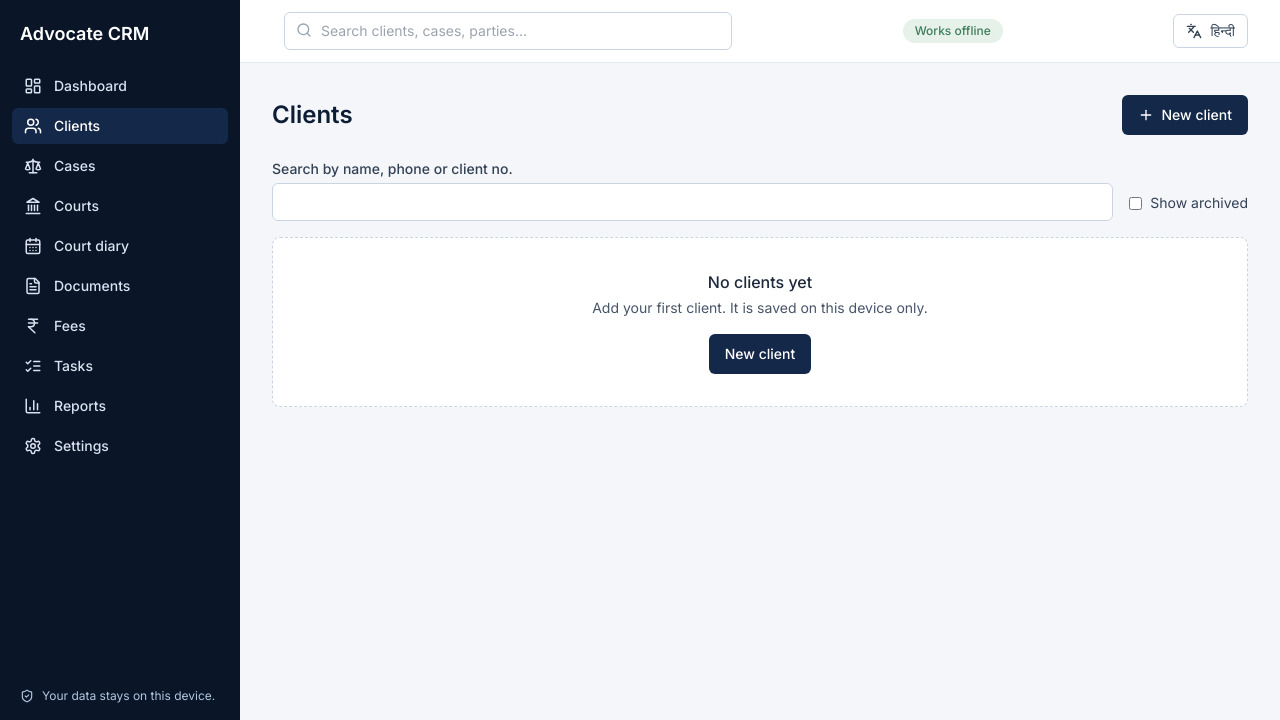
it: client management › shows validation errors and saves nothing for bad input
The width and height of the screenshot is (1280, 720).
Click the 1st button "New client" at (1185, 115), box [1122,95,1248,135]
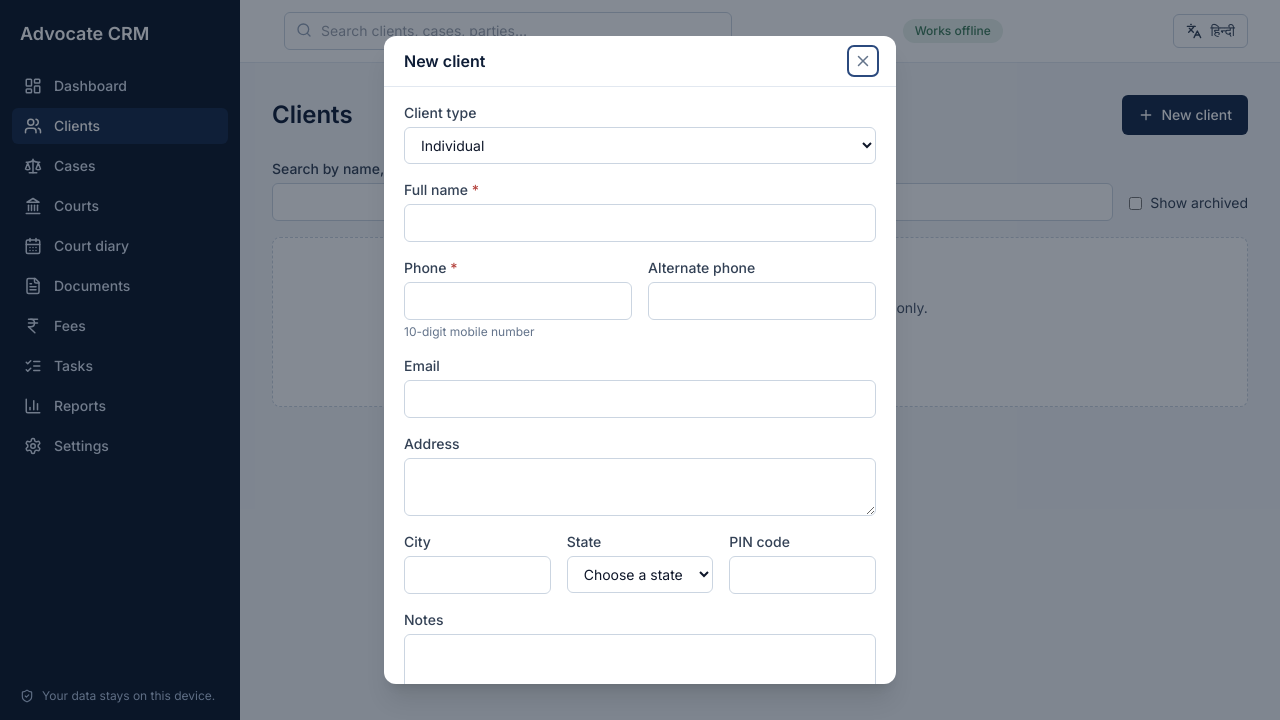
Type "A" into the field labelled "Full name *" at (640, 223), box [404,204,876,242]
(page scrolled)
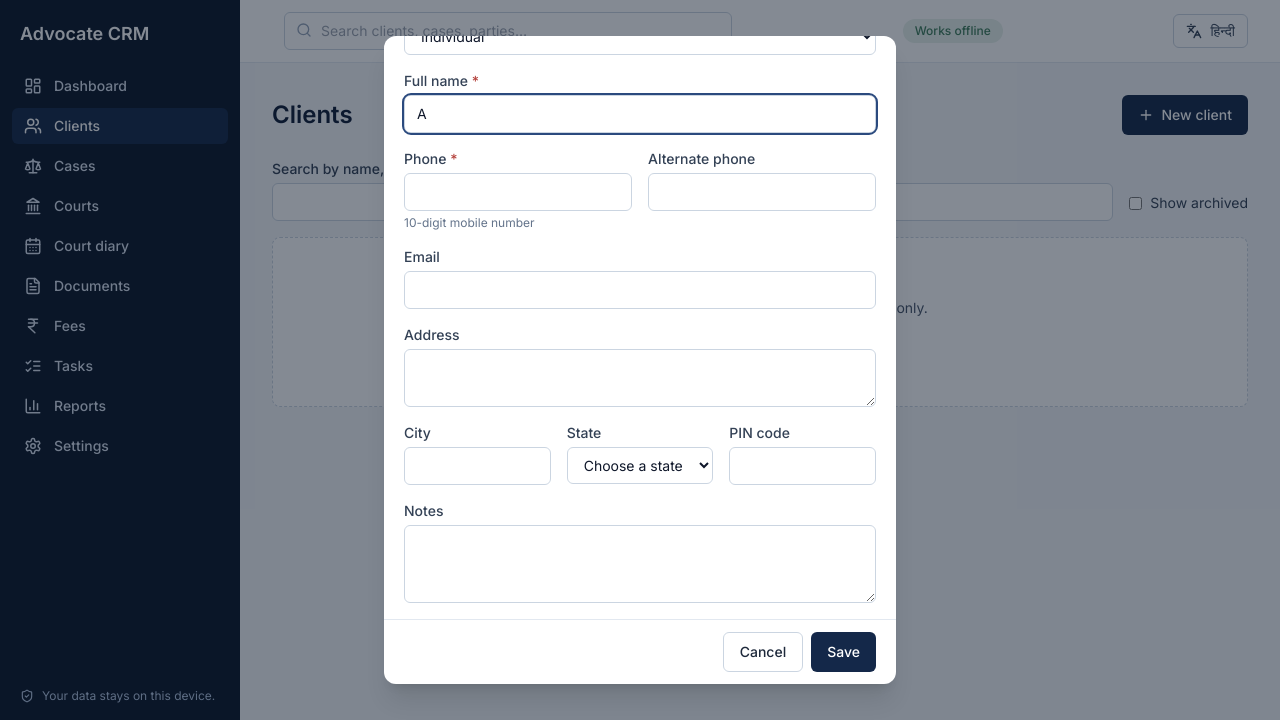
Click the button "Save" at (844, 652), box [811,632,876,672]
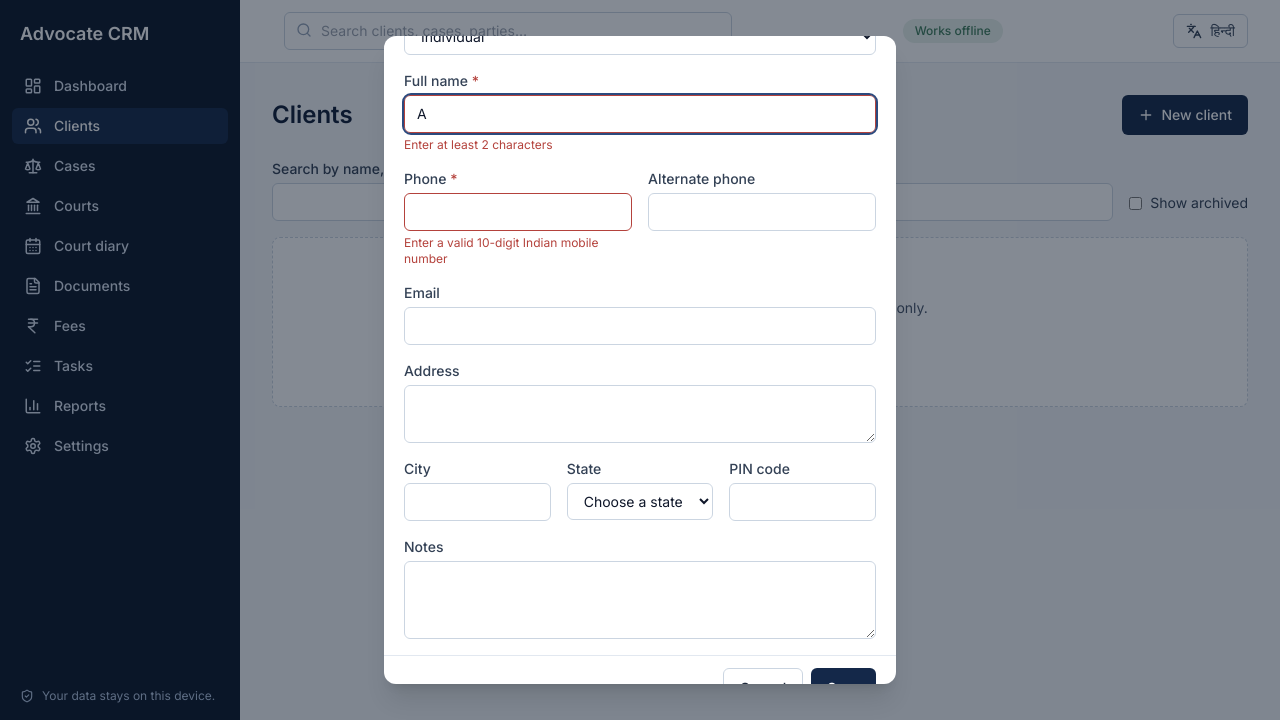
Now the text "Enter at least 2 characters" is shown, box [404,137,553,152]
Now the text "Enter a valid 10-digit Indian mobile number" is shown, box [404,235,632,267]
